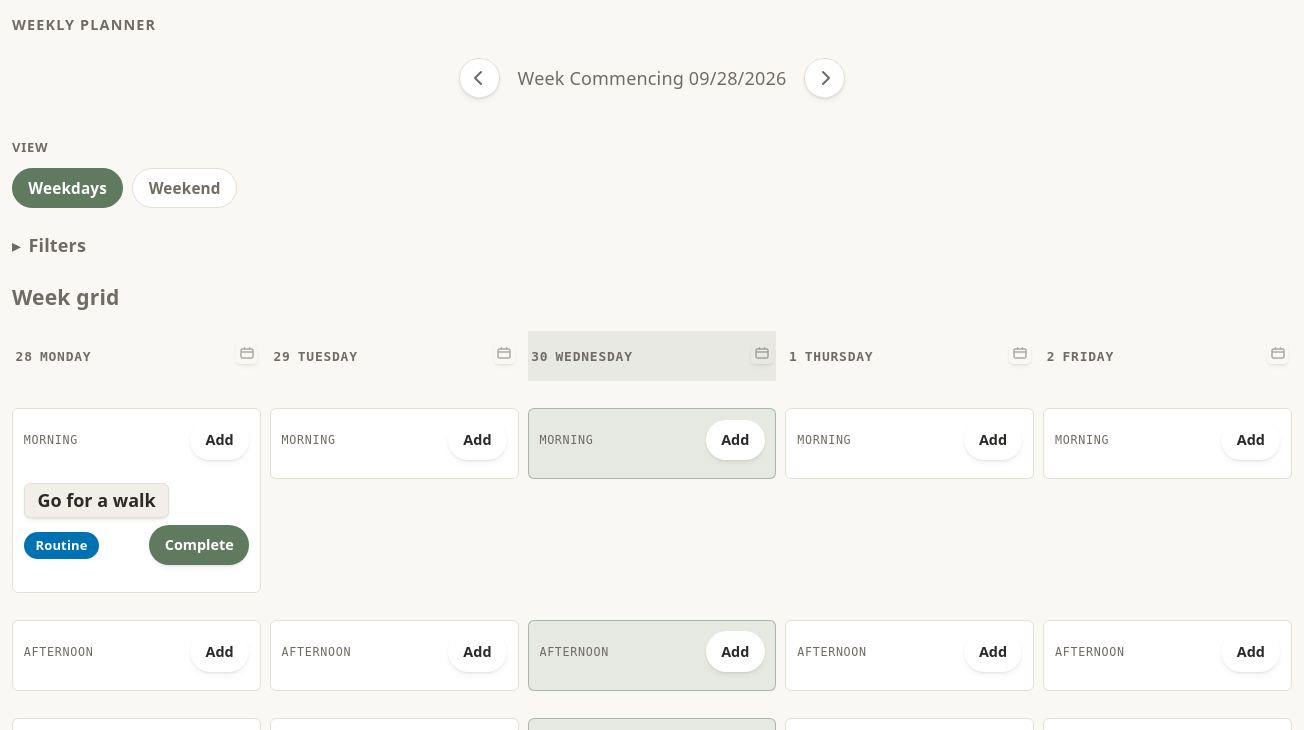
Test: WeeklyPlanner › FRONTEND-004-AC-40: move/remove/complete/undo/carry-forward failure shows an alert, non-optimistic › keeps the occurrence uncompleted when planApi.complete rejects
The image size is (1304, 730).
Step 1. Click the button "Complete" → (199, 545), box [149,525,249,566]
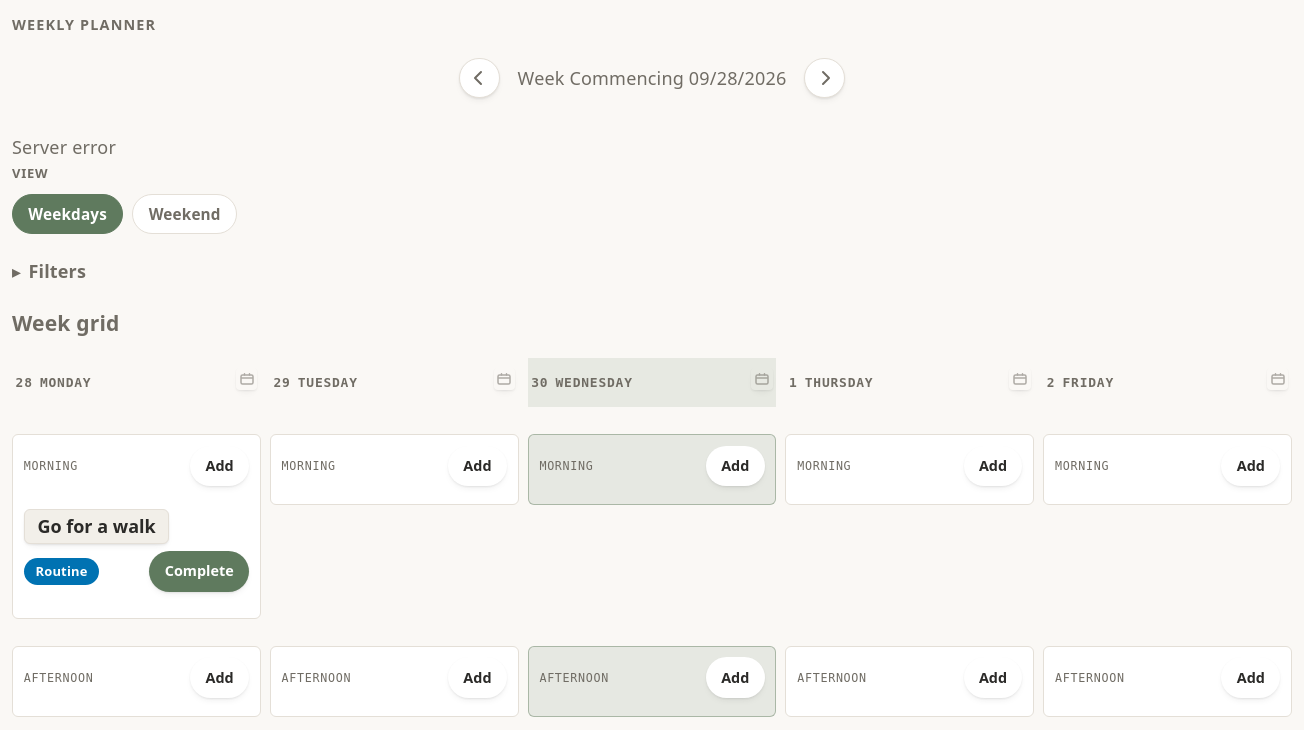
Check: the message reads "Server error", box [12,135,116,159]
